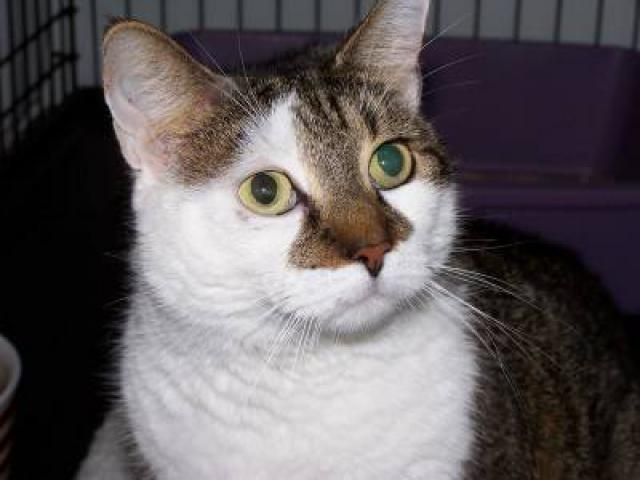cat: (64, 1, 628, 480)
